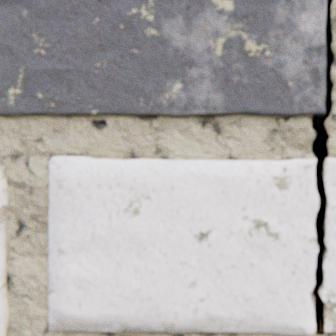brick: (0, 0, 326, 116), (0, 165, 9, 335)
broken_brick: (50, 156, 318, 334), (321, 158, 335, 331)
crack: (310, 0, 335, 335)
